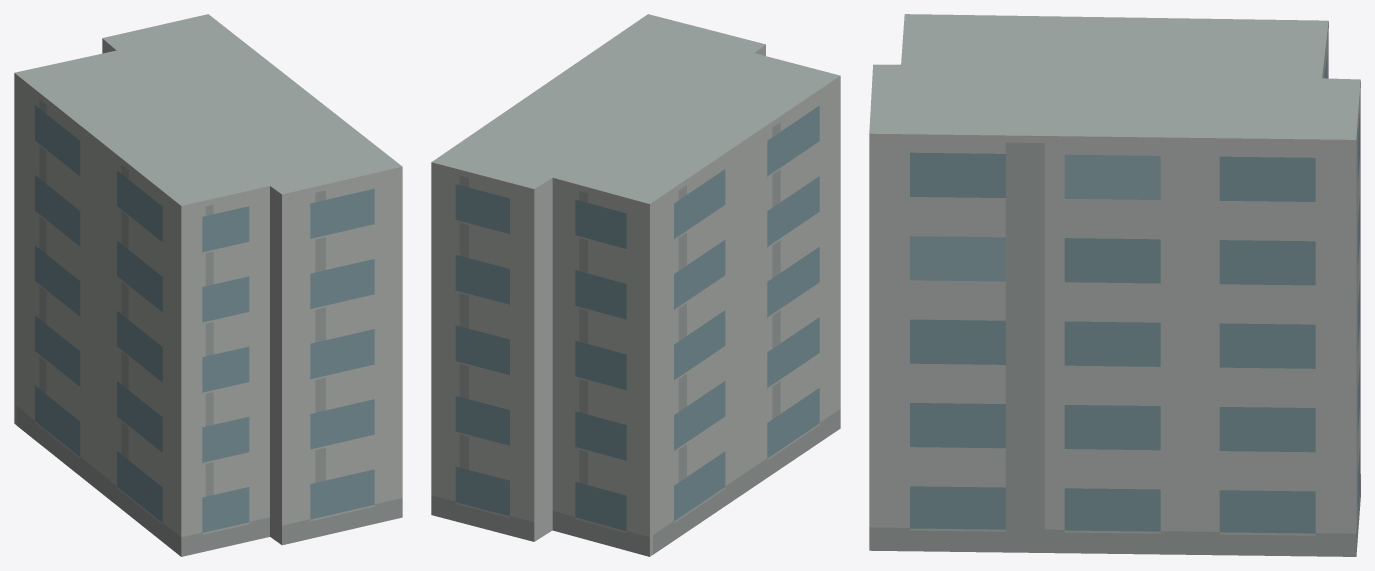
File: survey-upis-32816114.glb
The picture shows the model from 3 angles, left to right: view 1: azimuth 30°, elevation 25°; view 2: azimuth 150°, elevation 25°; view 3: azimuth 270°, elevation 25°; orthographic projection. The views are drawn at different scales.
Visible parts, largest first — view 1: survey-upis-32816114.tmp; view 2: survey-upis-32816114.tmp; view 3: survey-upis-32816114.tmp.
Part boxes in pixels (box(x1,y1,x2,y2)): survey-upis-32816114.tmp: box(14, 14, 402, 556); survey-upis-32816114.tmp: box(431, 14, 840, 556); survey-upis-32816114.tmp: box(869, 14, 1360, 556).
Size of the model in its own units: 9.2 by 14.2 by 15.18.
